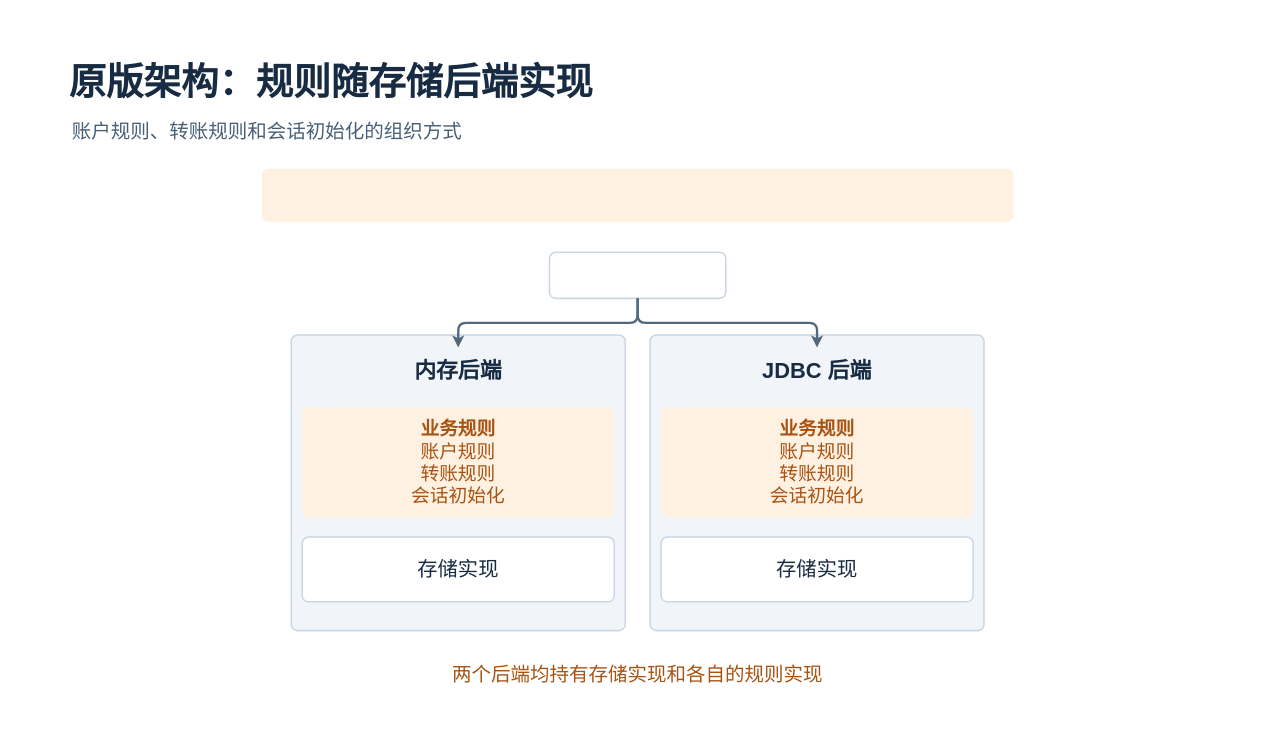
The diagram is 1275 pixels wide and 729 high, and some of its shapes have lost their labels. Here are the shapes that lost their labels. From the top down, the box of each, then its label:
(261, 168, 1013, 222): A₀ 原版
(548, 251, 726, 299): Ledger
